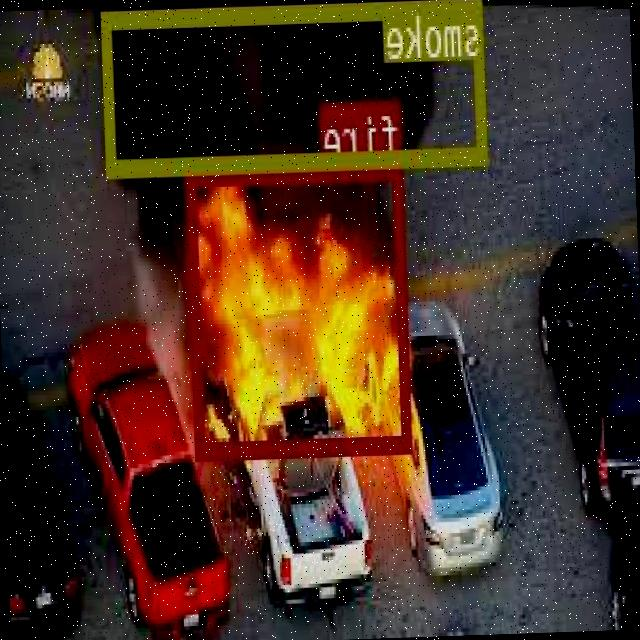fire: (188, 158, 414, 457)
smoke: (103, 0, 489, 173)
